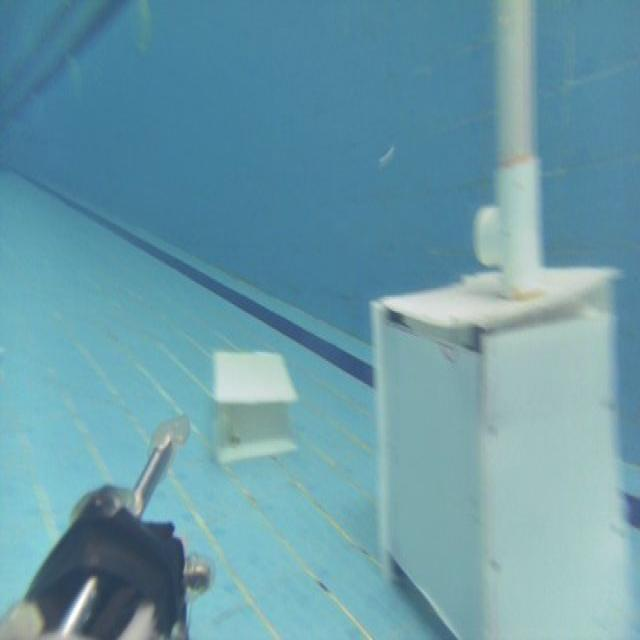Cube: (365, 253, 640, 640)
Cuboid: (207, 345, 299, 464)
